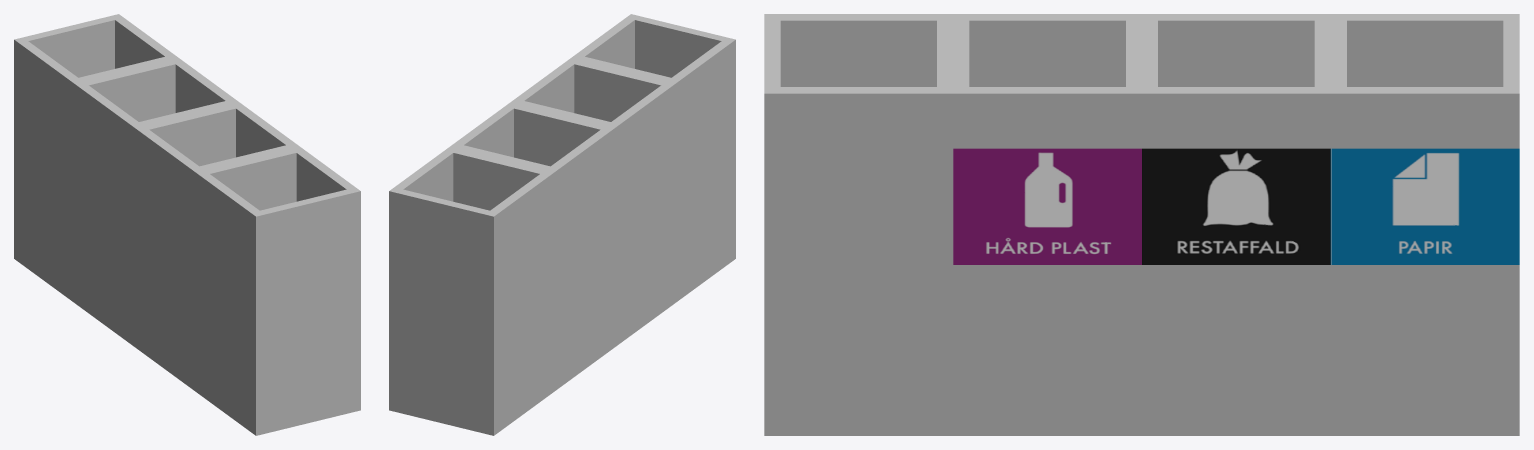
The model's file is TrashBins.fbx.
3 views of the same model, side by side, from view 1: azimuth 30°, elevation 25°; view 2: azimuth 150°, elevation 25°; view 3: azimuth 270°, elevation 25° (orthographic). The views are drawn at different scales.
Parts seen in each view (by area): view 1: Cube.002, Cube.001, Cube.004, Cube.003; view 2: Cube.004, Cube.002, Cube.003, Cube.001; view 3: Cube.002, Cube.004, Cube.001, Cube.003.
Boxes of the visible parts, x1=… form: Cube.002: x1=195, y1=147, x2=360, y2=435; Cube.001: x1=135, y1=102, x2=299, y2=391; Cube.004: x1=14, y1=14, x2=178, y2=302; Cube.003: x1=74, y1=58, x2=239, y2=346; Cube.004: x1=389, y1=147, x2=554, y2=435; Cube.002: x1=571, y1=14, x2=735, y2=302; Cube.003: x1=450, y1=102, x2=614, y2=391; Cube.001: x1=510, y1=58, x2=675, y2=346; Cube.002: x1=764, y1=14, x2=953, y2=435; Cube.004: x1=1330, y1=14, x2=1519, y2=435; Cube.001: x1=953, y1=14, x2=1141, y2=435; Cube.003: x1=1142, y1=14, x2=1330, y2=435.
Bounding box in the file's own units: 40 × 80 × 160.
